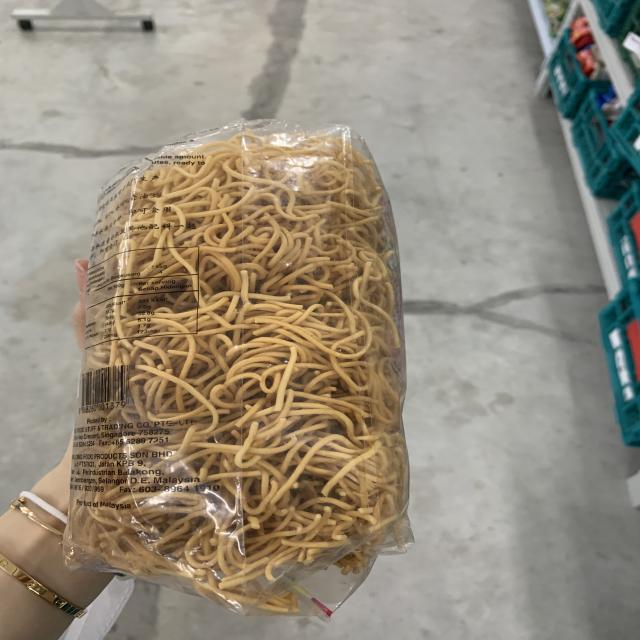object_name: (98, 149, 389, 567)
